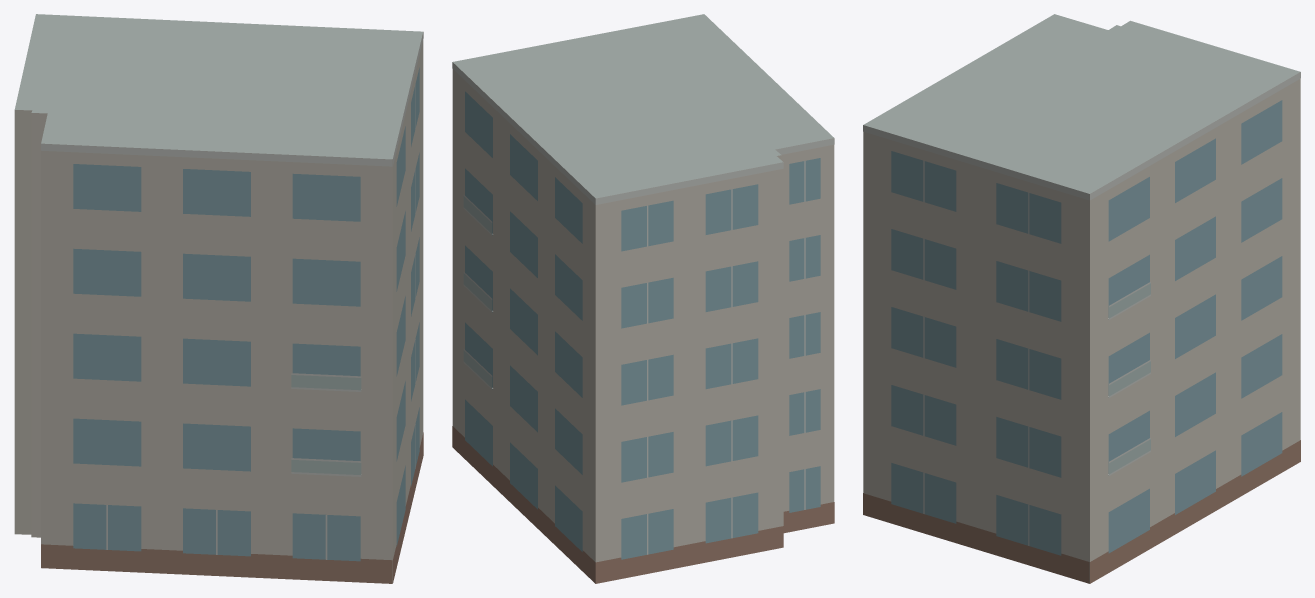
File: survey-upis-32998063.glb
3 renders of one model, left to right at view 1: azimuth 30°, elevation 25°; view 2: azimuth 150°, elevation 25°; view 3: azimuth 270°, elevation 25°, orthographic. The views are drawn at different scales.
Visible parts, largest first — view 1: survey-upis-32998063.tmp; view 2: survey-upis-32998063.tmp; view 3: survey-upis-32998063.tmp.
Part boxes in pixels (bbox=[...]): survey-upis-32998063.tmp: bbox=[14, 14, 423, 583]; survey-upis-32998063.tmp: bbox=[452, 14, 834, 583]; survey-upis-32998063.tmp: bbox=[863, 14, 1300, 583].
Size of the model in its own units: 14.3 by 14.43 by 14.69.
